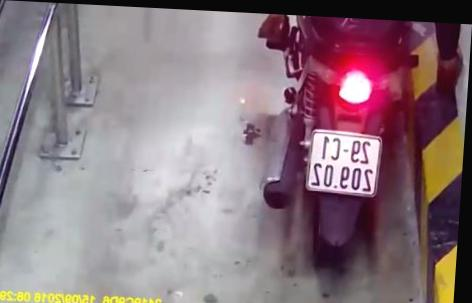License_Plate: (302, 129, 389, 199)
